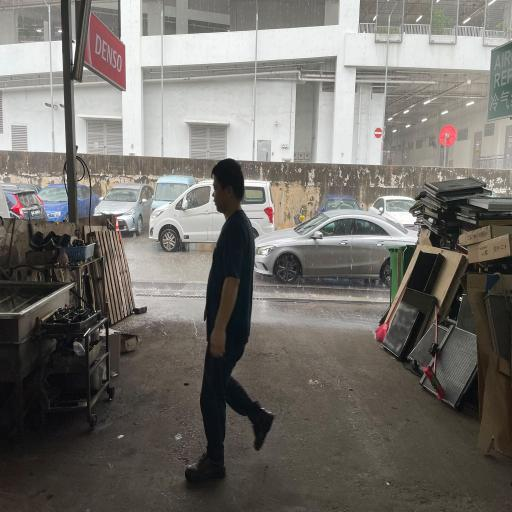person_left: (180, 150, 280, 499)
